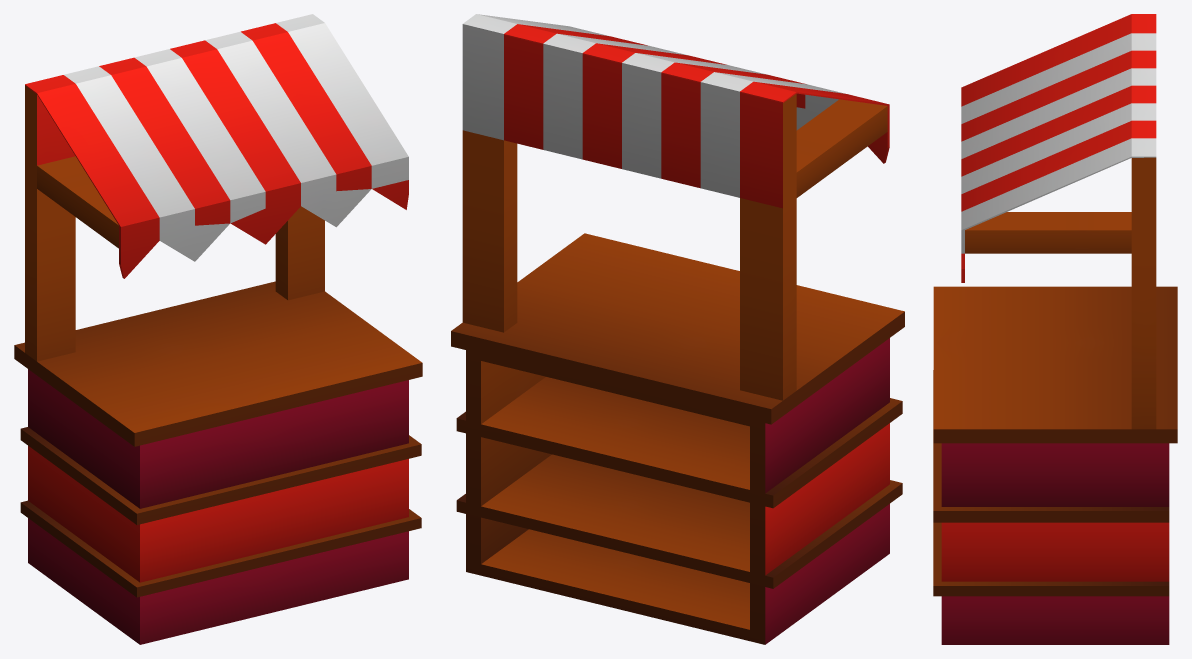
File: Mercadinho.fbx
3 renders of one model, left to right at view 1: azimuth 30°, elevation 25°; view 2: azimuth 150°, elevation 25°; view 3: azimuth 270°, elevation 25°, orthographic. The views are drawn at different scales.
Parts seen in each view (by area): view 1: Mercadinho; view 2: Mercadinho; view 3: Mercadinho.
Boxes of the visible parts, box(x1,y1,x2,y2) form: Mercadinho: box(14, 14, 422, 644); Mercadinho: box(451, 14, 904, 644); Mercadinho: box(933, 14, 1177, 644).
Bounding box in the file's own units: 91.85 × 148 × 66.41.
